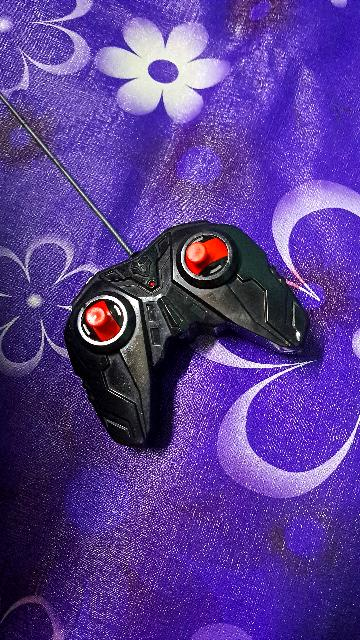hardplastic: (33, 189, 323, 462)
